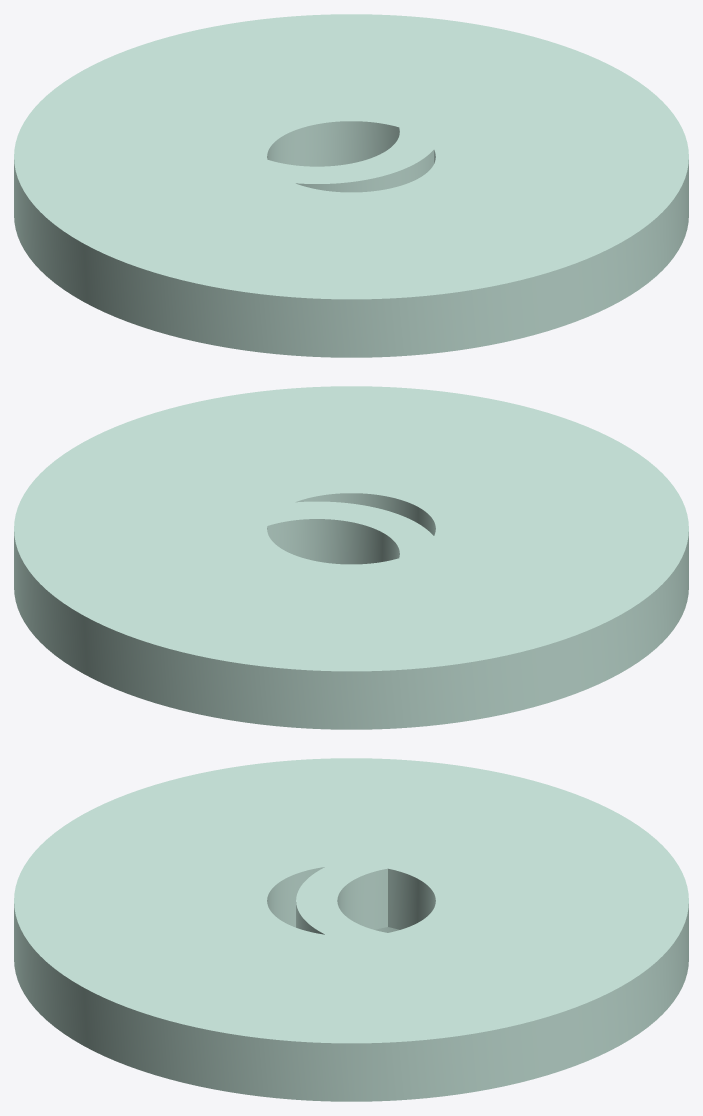
The picture shows the model from 3 angles, top to bottom: view 1: azimuth 30°, elevation 25°; view 2: azimuth 150°, elevation 25°; view 3: azimuth 270°, elevation 25°; orthographic projection.
Visible parts, largest first — view 1: Renderer Node; view 2: Renderer Node; view 3: Renderer Node.
Part boxes in pixels (x1=…): Renderer Node: x1=14, y1=14, x2=688, y2=357; Renderer Node: x1=14, y1=386, x2=688, y2=729; Renderer Node: x1=14, y1=758, x2=688, y2=1101.
Size of the model in its own units: 1.31 by 0.2109 by 1.31.
